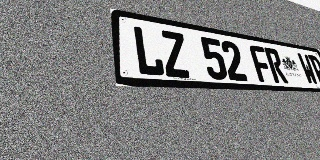2: (220, 40, 248, 81)
5: (200, 36, 229, 80)
F: (248, 45, 275, 83)
L: (132, 25, 166, 77)
P: (308, 55, 320, 86)
R: (264, 47, 289, 83)
W: (296, 53, 319, 85)
Z: (159, 30, 191, 78)
